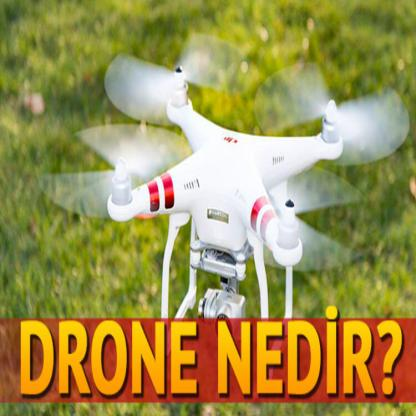drone: (74, 44, 385, 306)
